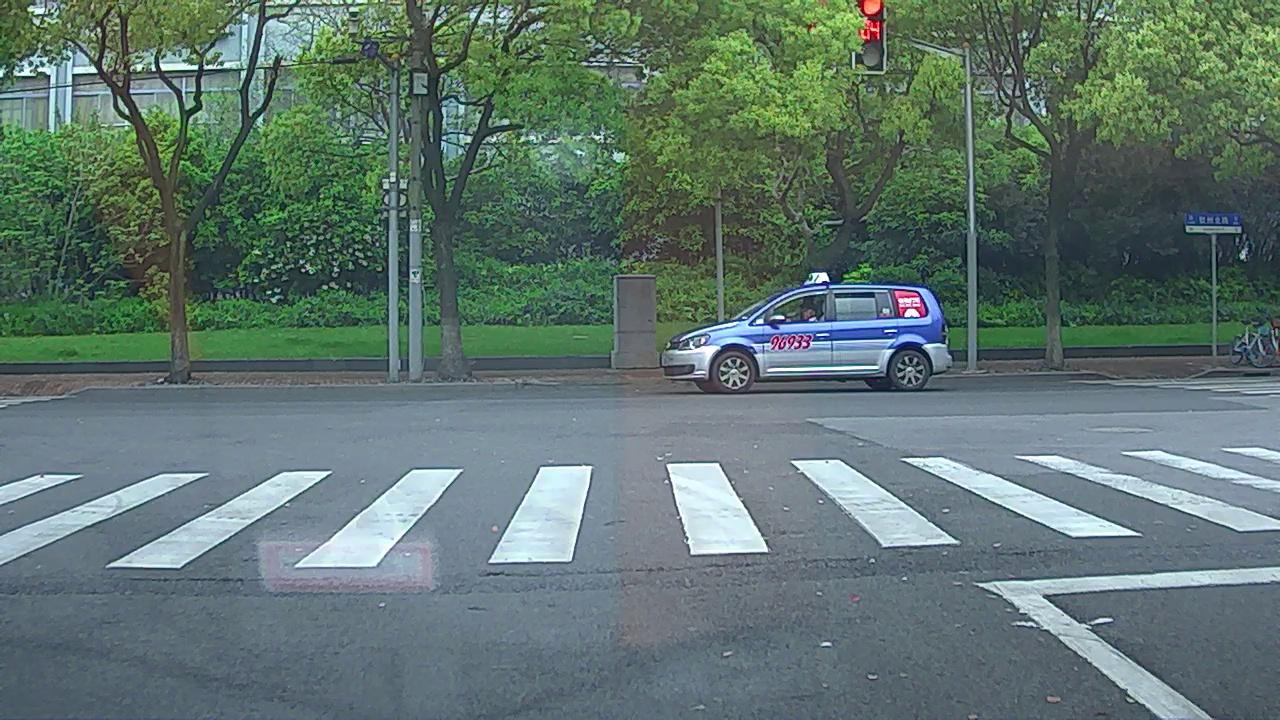traffic_light: (854, 1, 886, 68)
